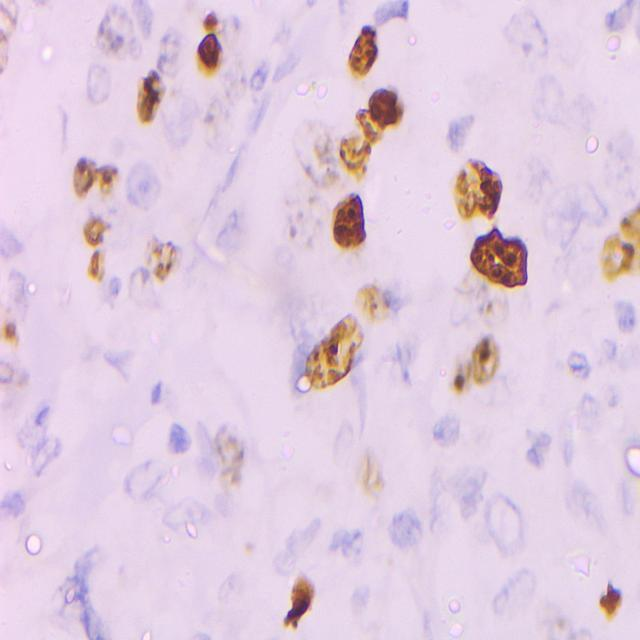Healthy cell: (557, 477, 635, 542), (501, 0, 558, 64), (489, 486, 524, 561), (435, 105, 477, 159), (378, 336, 416, 389), (386, 507, 422, 558), (538, 69, 566, 131), (129, 165, 161, 217), (563, 340, 601, 382), (80, 56, 110, 105), (430, 409, 465, 450), (163, 496, 195, 537), (603, 0, 640, 32), (609, 295, 638, 335), (3, 260, 31, 301), (3, 484, 28, 526), (156, 28, 182, 68), (133, 462, 169, 490), (0, 223, 27, 257), (168, 416, 188, 460)
cancer-cell-QiJm: (309, 316, 357, 402), (474, 222, 528, 290), (283, 189, 333, 259), (452, 159, 501, 222), (200, 72, 254, 124), (302, 118, 338, 196), (603, 203, 639, 281), (329, 192, 366, 252), (356, 446, 394, 502), (94, 3, 134, 53), (347, 19, 379, 79), (217, 416, 241, 496), (0, 0, 25, 74), (286, 570, 316, 631), (350, 280, 386, 322), (373, 83, 407, 127), (137, 72, 162, 130), (460, 262, 496, 302), (470, 338, 500, 384), (150, 232, 178, 281), (198, 32, 224, 82), (0, 309, 26, 359), (340, 136, 368, 180), (359, 106, 390, 144), (440, 355, 468, 393), (73, 153, 93, 205), (86, 243, 109, 286), (598, 586, 622, 623), (83, 213, 104, 249), (95, 159, 116, 195), (240, 540, 266, 568), (3, 358, 28, 386), (202, 9, 221, 39), (294, 392, 302, 399)
